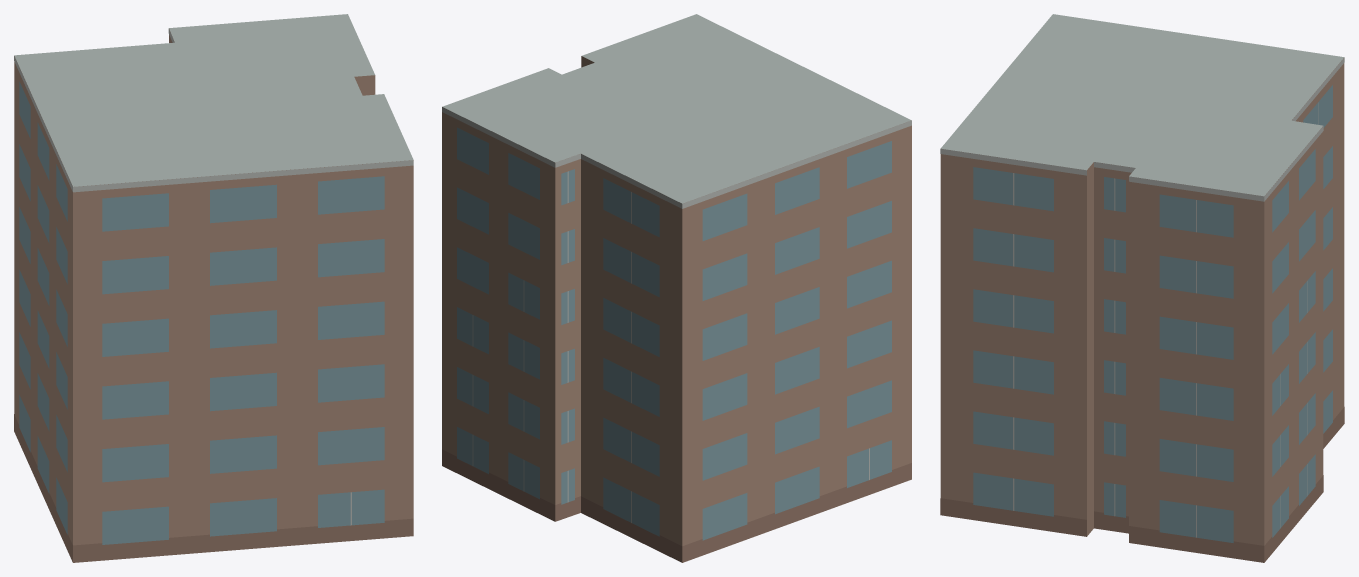
Rendered from survey-upis-32719248.glb.
The picture shows the model from 3 angles, left to right: view 1: azimuth 30°, elevation 25°; view 2: azimuth 150°, elevation 25°; view 3: azimuth 270°, elevation 25°; orthographic projection. The views are drawn at different scales.
Visible parts, largest first — view 1: survey-upis-32719248.tmp; view 2: survey-upis-32719248.tmp; view 3: survey-upis-32719248.tmp.
Boxes of the visible parts, x1,y1,x2,y2 form: survey-upis-32719248.tmp: (14,14,413,562); survey-upis-32719248.tmp: (442,14,911,562); survey-upis-32719248.tmp: (940,14,1344,562).
Bounding box in the file's own units: 17.83 × 16.7 × 16.69.
